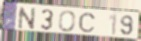1: (109, 13, 118, 36)
3: (40, 9, 55, 31)
9: (119, 15, 136, 36)
C: (78, 12, 97, 33)
N: (18, 6, 37, 30)
O: (58, 10, 76, 33)
